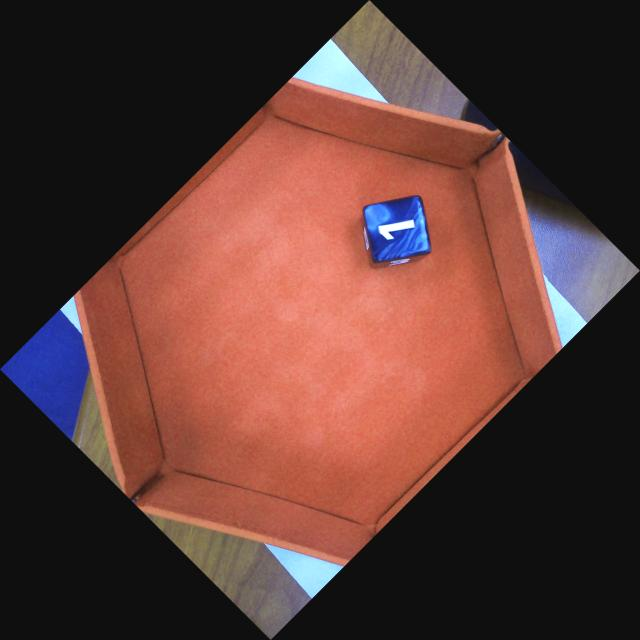dice: (360, 193, 434, 264)
